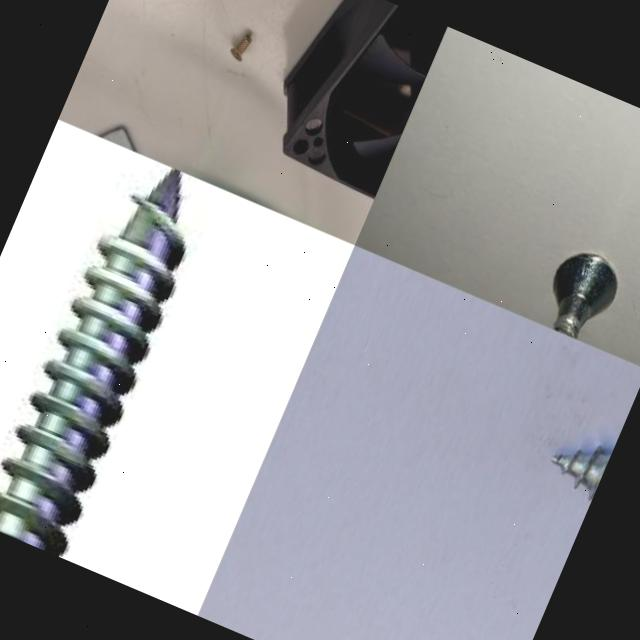Screw: (0, 167, 188, 558), (553, 254, 616, 339), (551, 448, 610, 501), (224, 24, 259, 66)
